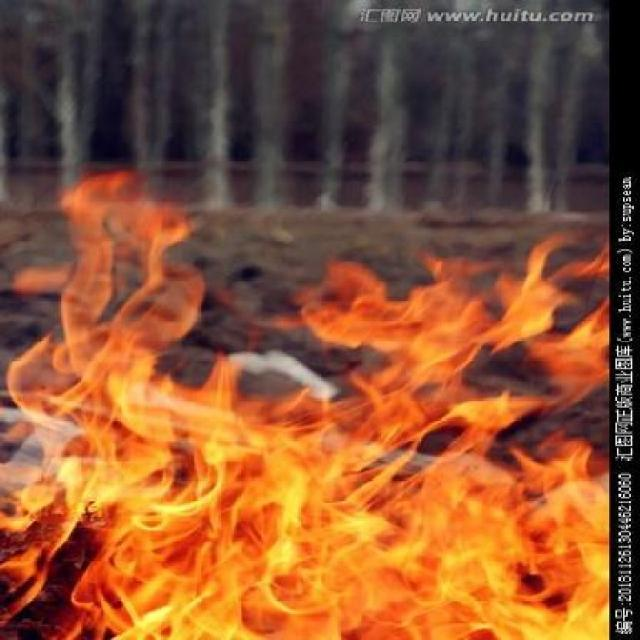Fire: (2, 172, 616, 640)
